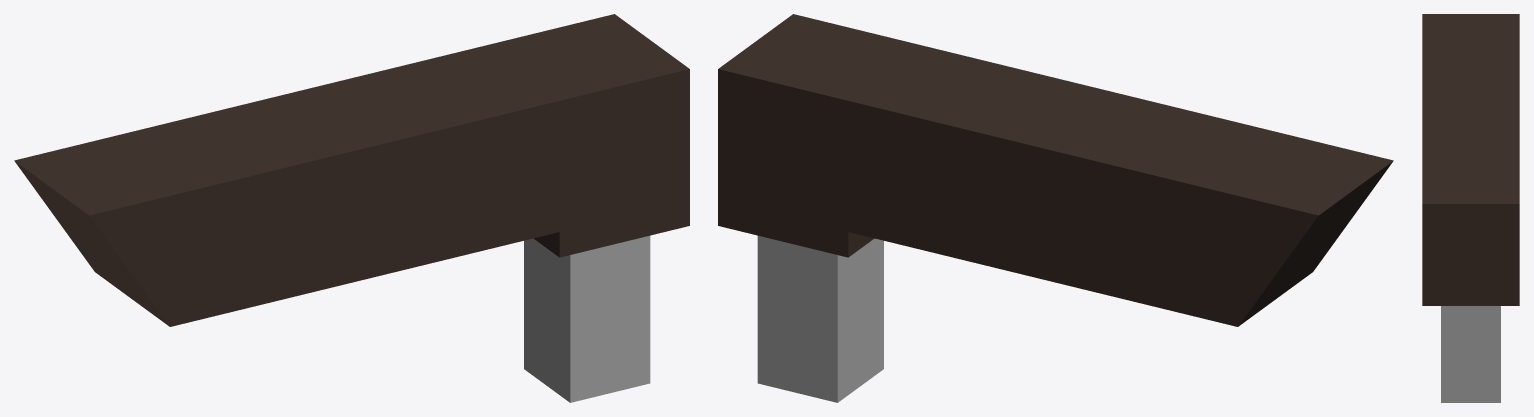
The model's file is Door_Handle_2.glb.
The picture shows the model from 3 angles, left to right: view 1: azimuth 30°, elevation 25°; view 2: azimuth 150°, elevation 25°; view 3: azimuth 270°, elevation 25°; orthographic projection. The views are drawn at different scales.
Parts seen in each view (by area): view 1: Door Handle 2; view 2: Door Handle 2; view 3: Door Handle 2.
Part boxes in pixels (x1=…): Door Handle 2: x1=14, y1=14, x2=689, y2=402; Door Handle 2: x1=718, y1=14, x2=1393, y2=402; Door Handle 2: x1=1422, y1=14, x2=1519, y2=402.
Size of the model in its own units: 0.2135 by 0.1083 by 0.0463.
1 material, 1 textured.
